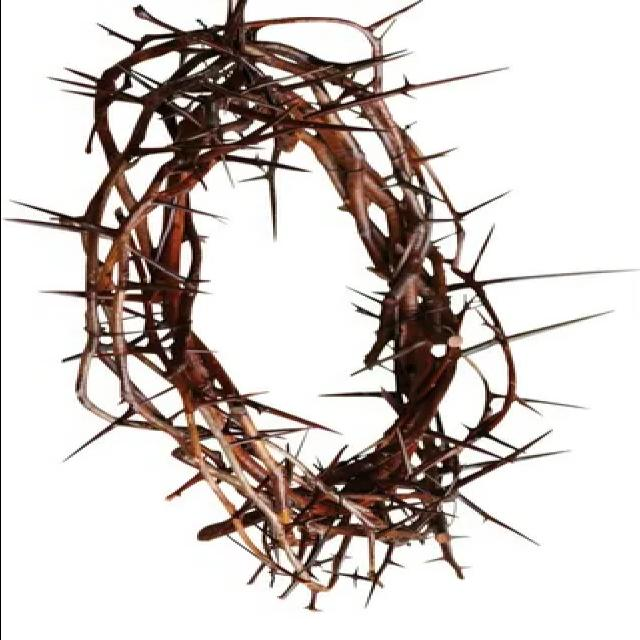crown: (73, 0, 540, 598)
